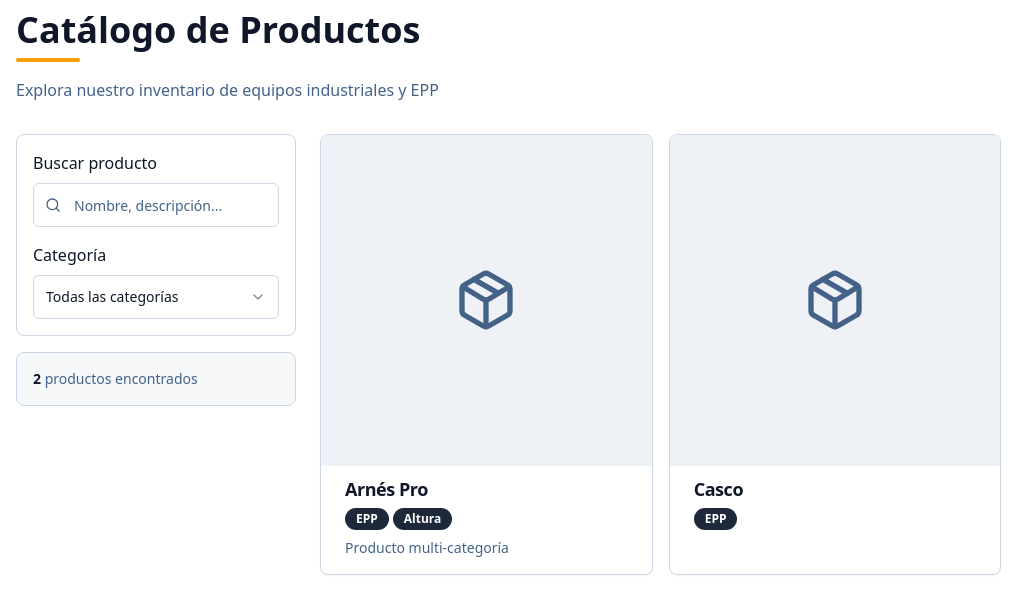
Scenario: HU-5.3 public filter with multi-category products › keeps a product visible when filtering by any assigned category
Expected: the text "Arnés Pro" is shown, [345,477,428,501]
Step 1. Press ArrowDown in the dropdown labelled "categoría", box [33,275,279,319]
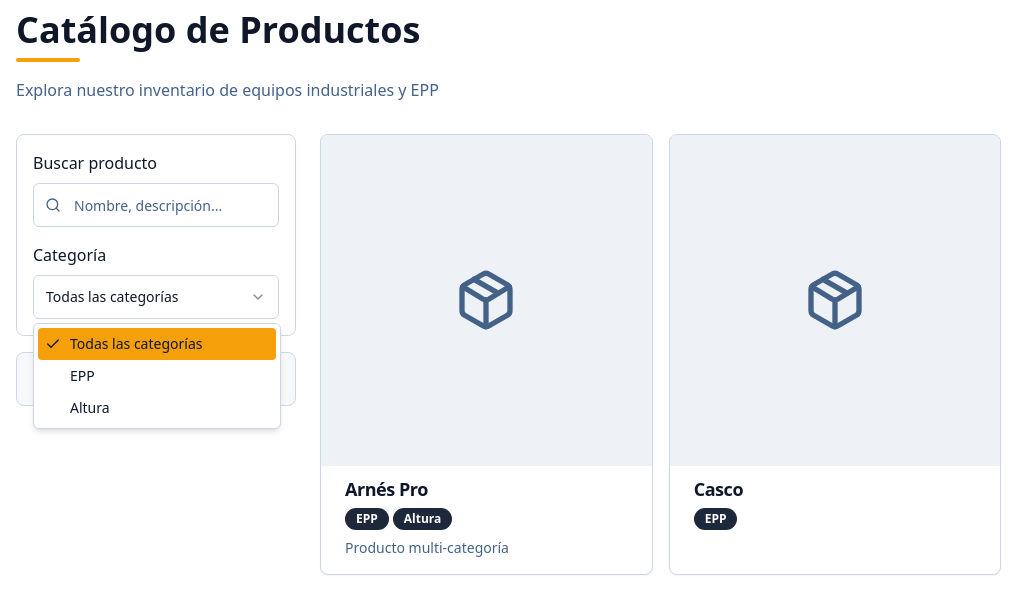
Step 2. Click the option "Altura" → click(90, 408), box [70,398,110,417]
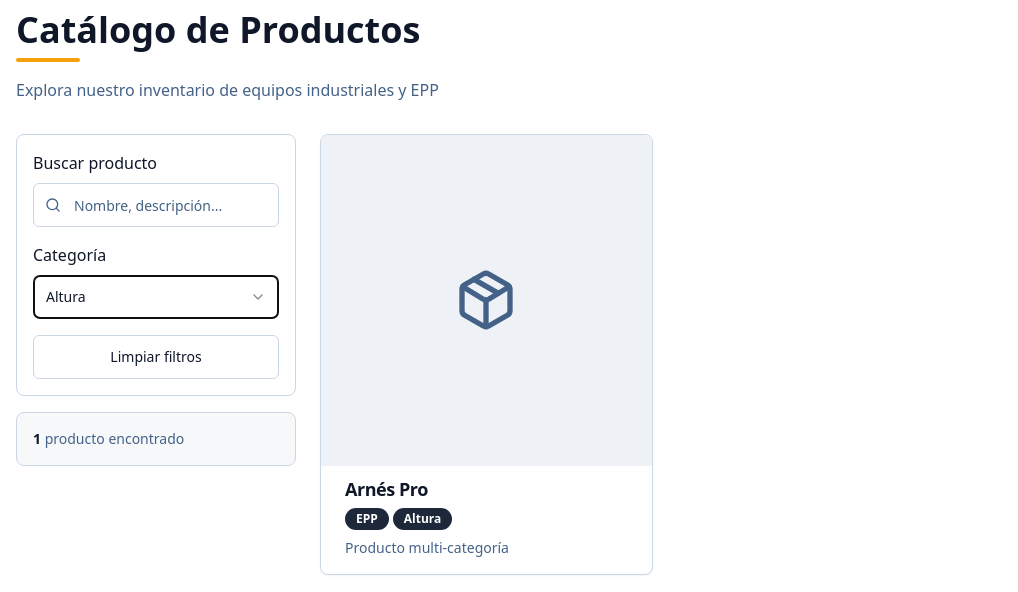
Expected: the text "Arnés Pro" is shown, [345,477,428,501]
Expected: the link "Casco" is gone
